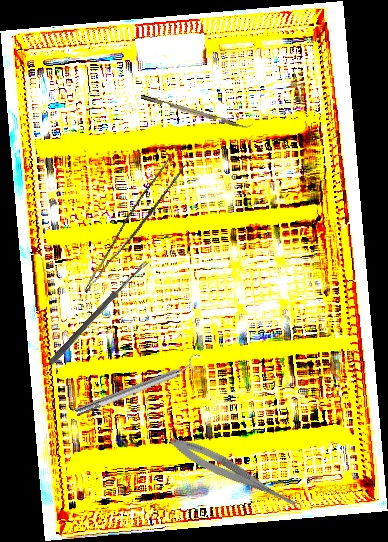Chopper: (140, 88, 254, 133)
Fixation Ring: (71, 352, 207, 422)
Micro Scissor: (167, 432, 307, 514)
Surgical Spoon: (48, 259, 149, 366)
Tissue Forceps: (83, 152, 186, 303)
